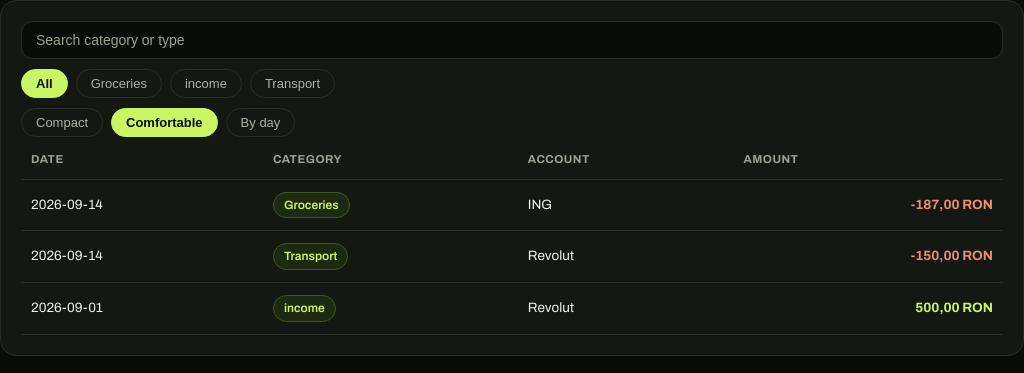
Test case: TransactionsExplorer › narrows rows by clicking a category chip, and resets on All
The image size is (1024, 373).
Step 1. Click the button "Transport" → [292, 84], box x1=250 y1=69 x2=335 y2=98
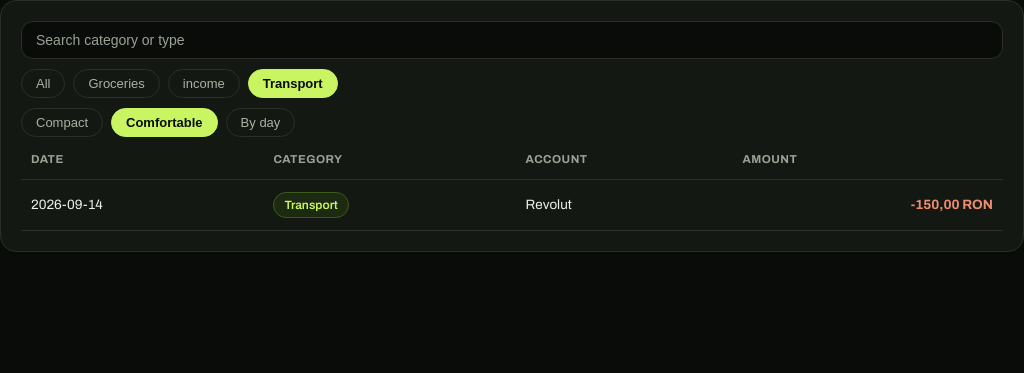
Result: the number of rows is 2 at x1=21 y1=151 x2=1003 y2=179; x1=21 y1=179 x2=1003 y2=231
Step 2. Click the button "All" → [43, 84], box x1=21 y1=69 x2=66 y2=98
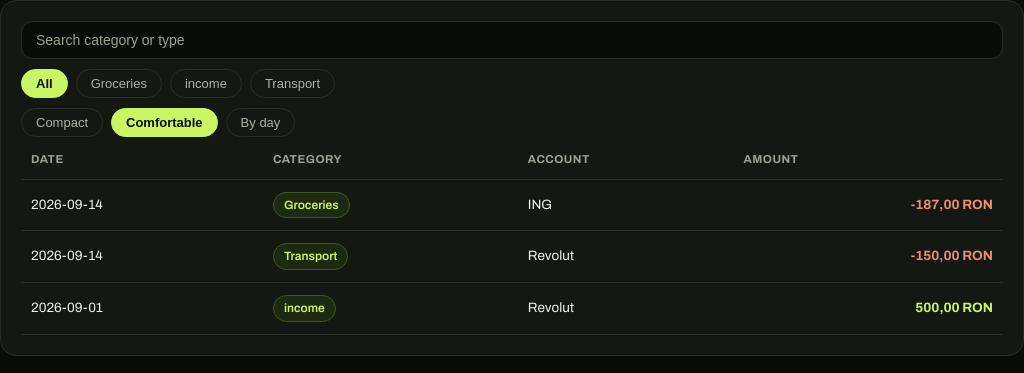
Result: the number of rows is 4 at x1=21 y1=151 x2=1003 y2=179; x1=21 y1=179 x2=1003 y2=231; x1=21 y1=231 x2=1003 y2=282; x1=21 y1=282 x2=1003 y2=334
